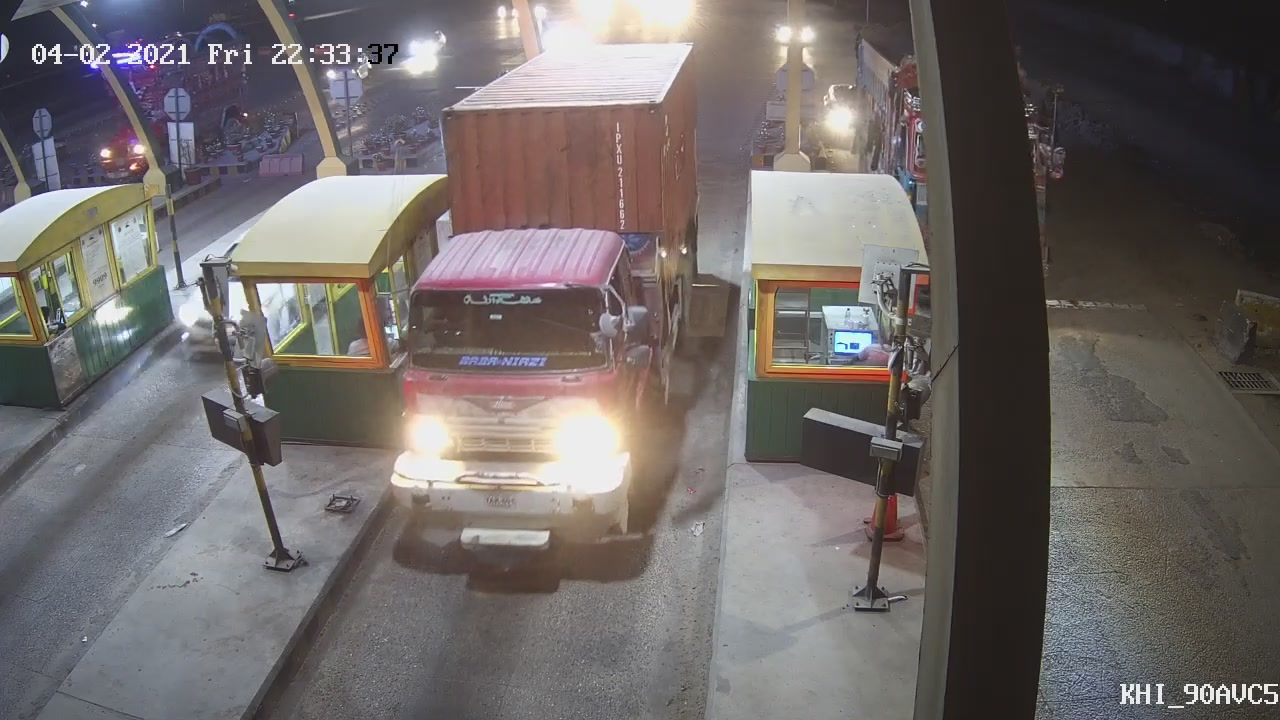F6: (380, 36, 713, 564)
